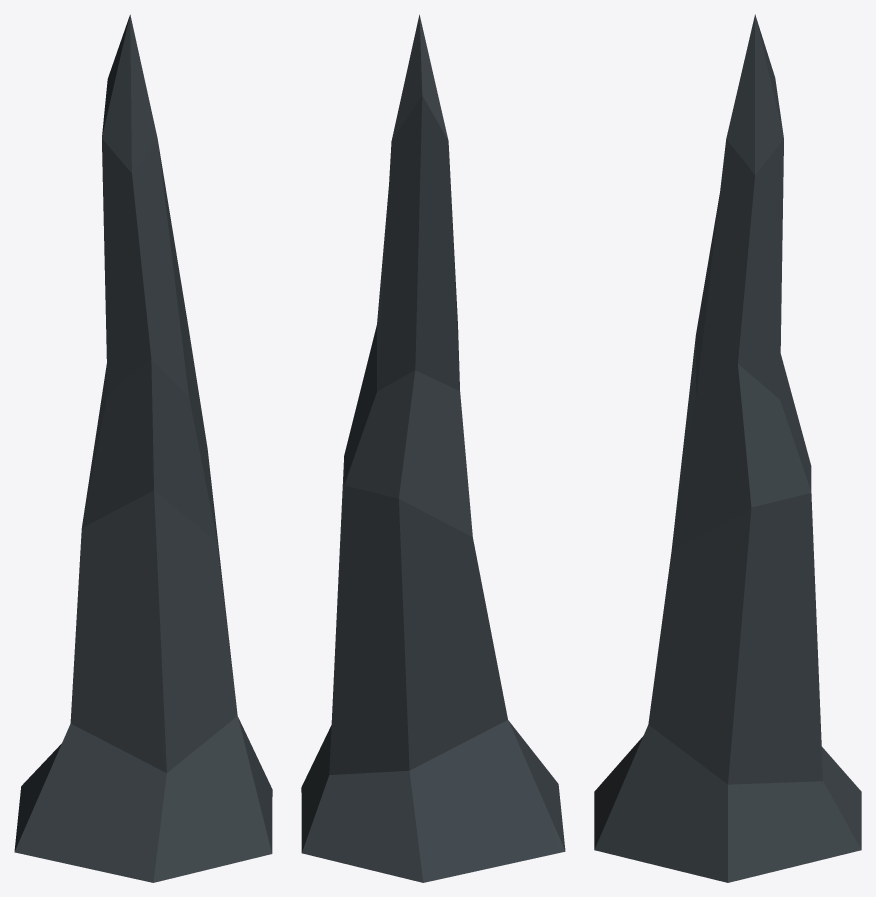
The model's file is Stalagmite-B08.fbx.
The picture shows the model from 3 angles, left to right: view 1: azimuth 30°, elevation 25°; view 2: azimuth 150°, elevation 25°; view 3: azimuth 270°, elevation 25°; orthographic projection. The views are drawn at different scales.
Parts seen in each view (by area): view 1: Stalagmite-B08; view 2: Stalagmite-B08; view 3: Stalagmite-B08.
Boxes of the visible parts, box(x1,y1,x2,y2) form: Stalagmite-B08: box(14, 14, 272, 882); Stalagmite-B08: box(301, 14, 565, 882); Stalagmite-B08: box(594, 14, 861, 882).
Bounding box in the file's own units: 90.64 × 267 × 80.42.
